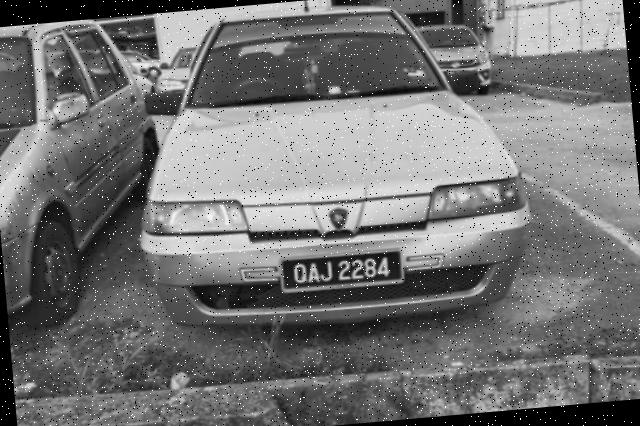License_Plate: (281, 250, 407, 296)
car: (120, 1, 541, 350)
